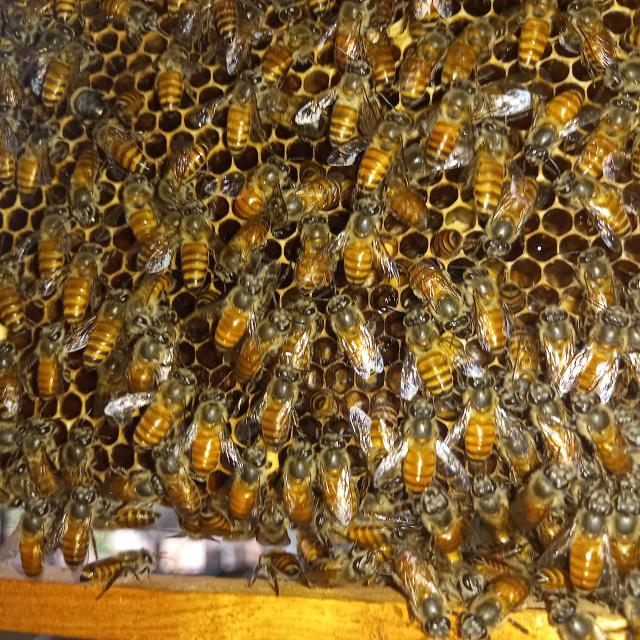honeybee: (398, 302, 466, 428), (564, 167, 640, 269), (344, 302, 417, 396), (118, 162, 176, 272), (464, 197, 565, 259), (231, 323, 308, 396), (537, 383, 607, 460), (579, 303, 640, 391), (398, 560, 464, 640), (535, 90, 618, 150), (310, 84, 372, 160), (490, 30, 586, 75), (409, 398, 449, 505), (94, 541, 173, 595), (458, 124, 516, 197), (199, 73, 250, 156), (6, 261, 56, 344), (537, 558, 586, 640), (342, 208, 387, 295), (171, 201, 223, 276), (597, 492, 640, 580), (216, 154, 287, 207), (15, 214, 68, 284), (9, 135, 62, 205), (466, 289, 514, 366), (135, 359, 188, 428), (556, 235, 603, 312), (562, 496, 610, 571), (118, 300, 166, 372), (96, 92, 148, 158), (45, 41, 92, 113), (532, 298, 576, 374), (255, 19, 312, 77), (409, 105, 464, 165), (214, 9, 261, 77), (509, 453, 567, 507), (139, 32, 188, 94), (288, 492, 334, 554), (402, 34, 443, 103), (280, 222, 334, 274), (220, 464, 272, 518), (182, 394, 227, 456), (351, 148, 413, 192), (45, 312, 75, 402), (323, 436, 361, 507), (402, 242, 451, 297), (464, 573, 511, 629), (58, 154, 107, 207), (220, 210, 266, 265), (268, 528, 312, 582), (453, 400, 505, 445), (280, 438, 317, 501), (396, 486, 438, 539), (336, 522, 376, 577), (30, 483, 60, 554), (75, 432, 113, 488), (75, 492, 109, 550), (70, 300, 114, 344), (120, 496, 175, 530), (77, 250, 120, 293), (338, 17, 370, 73), (276, 169, 331, 201), (214, 286, 252, 330), (32, 428, 56, 496), (477, 498, 505, 539)
